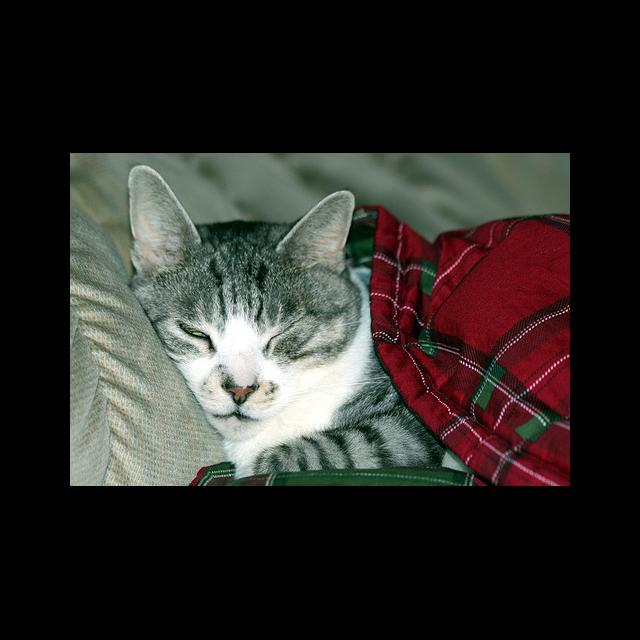animals: (135, 166, 348, 404)
